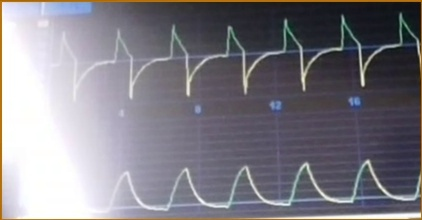Normal Flow: (50, 12, 422, 100)
Normal Volume: (74, 153, 421, 214)
